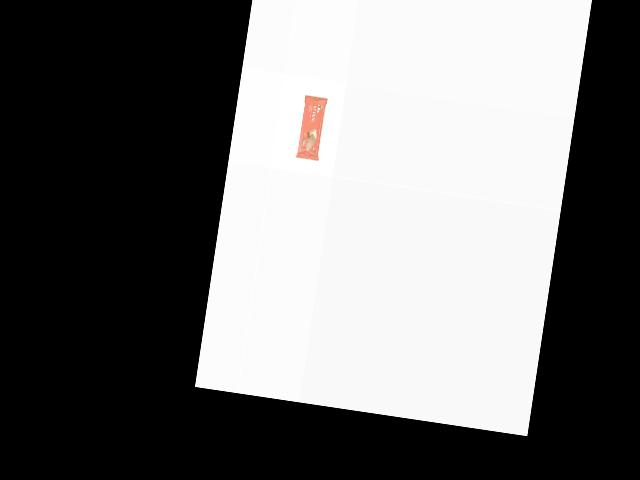chocolate: (295, 92, 327, 160)
